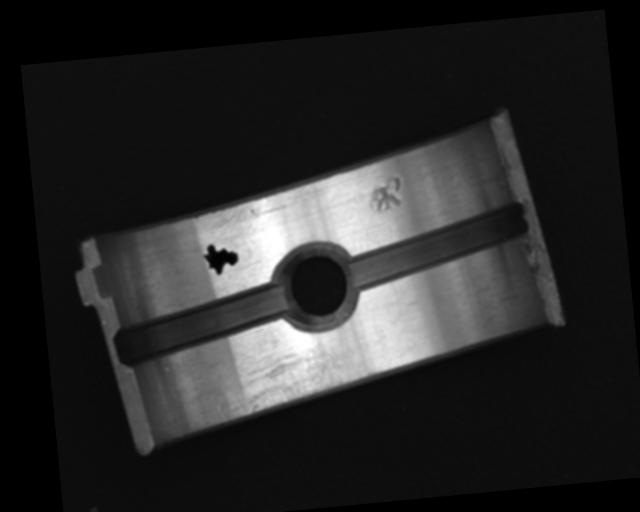blot: (199, 241, 241, 277)
bruise: (365, 174, 404, 213)
gap: (343, 201, 532, 293), (109, 283, 294, 367)
hole: (271, 244, 362, 335)
scratch: (210, 336, 378, 424)
